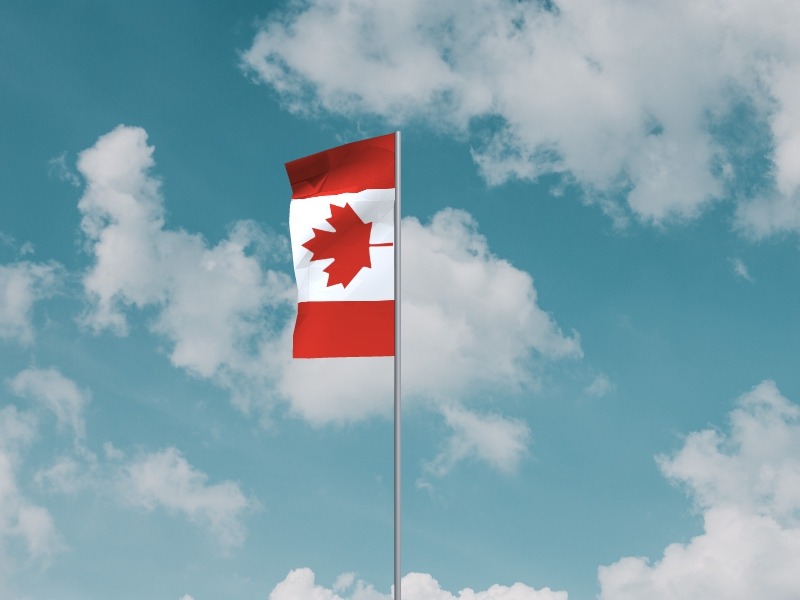ca: (284, 133, 396, 360)
